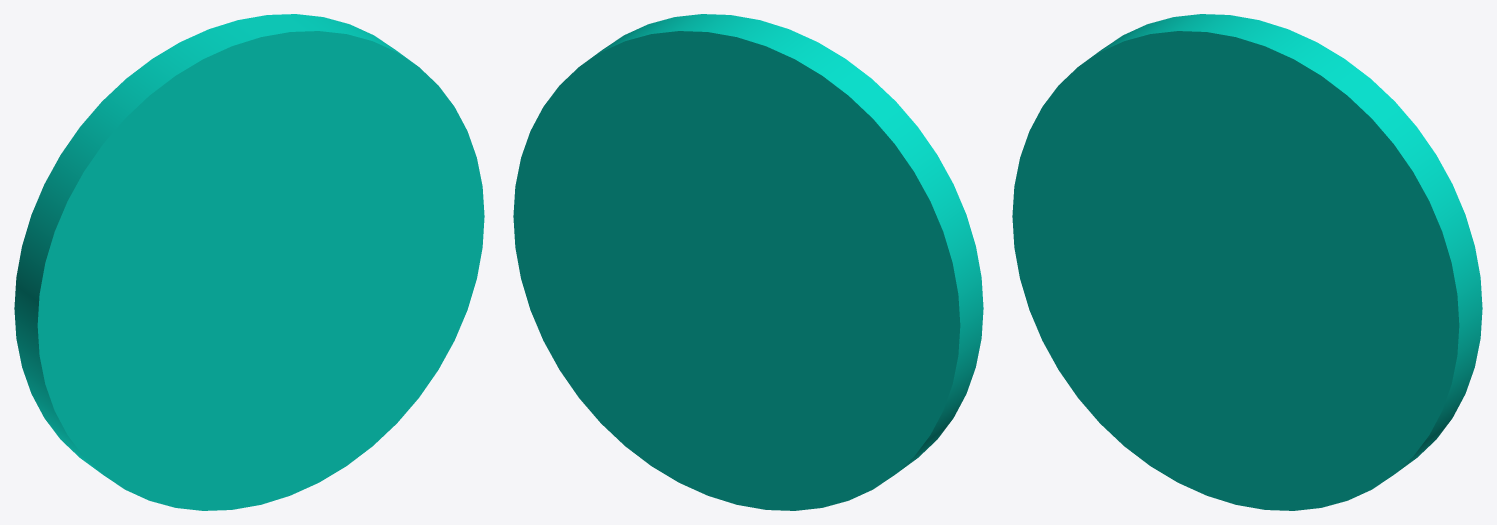
File: badge_crush.glb
3 renders of one model, left to right at view 1: azimuth 30°, elevation 25°; view 2: azimuth 150°, elevation 25°; view 3: azimuth 330°, elevation 25°, orthographic.
Parts seen in each view (by area): view 1: badge; view 2: badge; view 3: badge.
Boxes of the visible parts, <box> form: badge: <box>14,14,484,510</box>; badge: <box>513,14,983,510</box>; badge: <box>1012,14,1482,510</box>.
Size of the model in its own units: 2 by 2 by 0.18.
